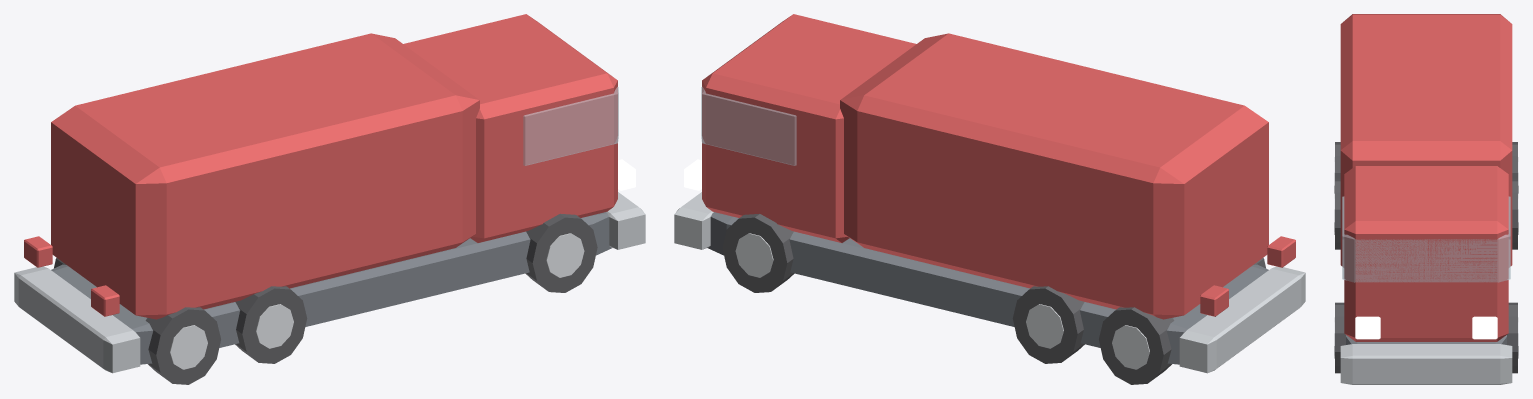
Rendered from b15_tactical_rescue_truck.glb.
3 renders of one model, left to right at view 1: azimuth 30°, elevation 25°; view 2: azimuth 150°, elevation 25°; view 3: azimuth 270°, elevation 25°, orthographic. The views are drawn at different scales.
Visible parts, largest first — view 1: b15_tactical_rescue_truck; view 2: b15_tactical_rescue_truck; view 3: b15_tactical_rescue_truck.
Boxes of the visible parts, x1=… form: b15_tactical_rescue_truck: x1=14, y1=14, x2=645, y2=384; b15_tactical_rescue_truck: x1=674, y1=14, x2=1305, y2=384; b15_tactical_rescue_truck: x1=1334, y1=14, x2=1518, y2=384.
Bounding box in the file's own units: 8.61 × 3.29 × 2.93.
